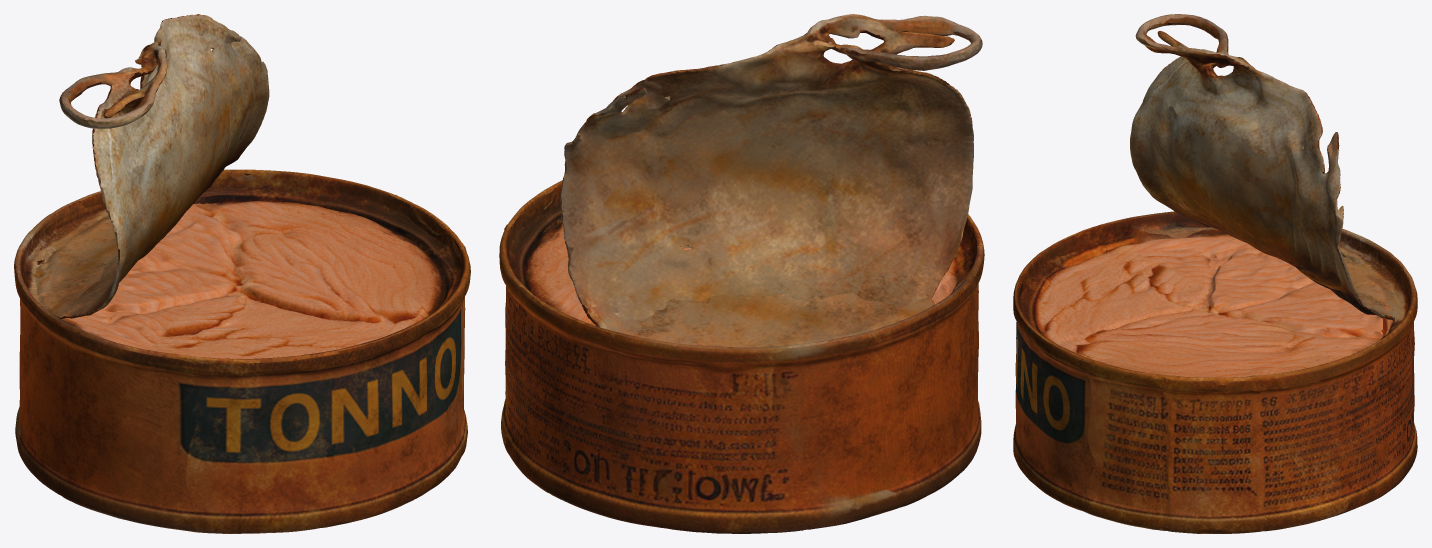
The model's file is tonnino.glb.
3 renders of one model, left to right at view 1: azimuth 30°, elevation 25°; view 2: azimuth 150°, elevation 25°; view 3: azimuth 270°, elevation 25°, orthographic. The views are drawn at different scales.
Parts seen in each view (by area): view 1: tmp_impx0rz.ply; view 2: tmp_impx0rz.ply; view 3: tmp_impx0rz.ply.
Boxes of the visible parts, <box> form: tmp_impx0rz.ply: <box>14,14,470,533</box>; tmp_impx0rz.ply: <box>499,14,984,533</box>; tmp_impx0rz.ply: <box>1013,14,1417,533</box>.
Bounding box in the file's own units: 1.96 × 1.94 × 1.96.
Materials: 1 (1 with a texture image).
